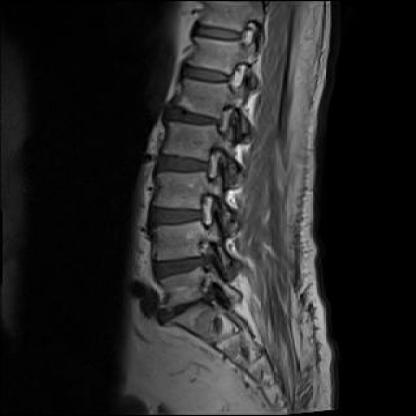Degenerative Disc Diseaserotation: (148, 289, 236, 323), (148, 254, 220, 281)
Disc Bulgerotation: (148, 290, 236, 324), (148, 253, 221, 279)
Disc Relaxationrotation: (142, 201, 214, 232), (152, 147, 216, 178), (162, 100, 226, 131)
